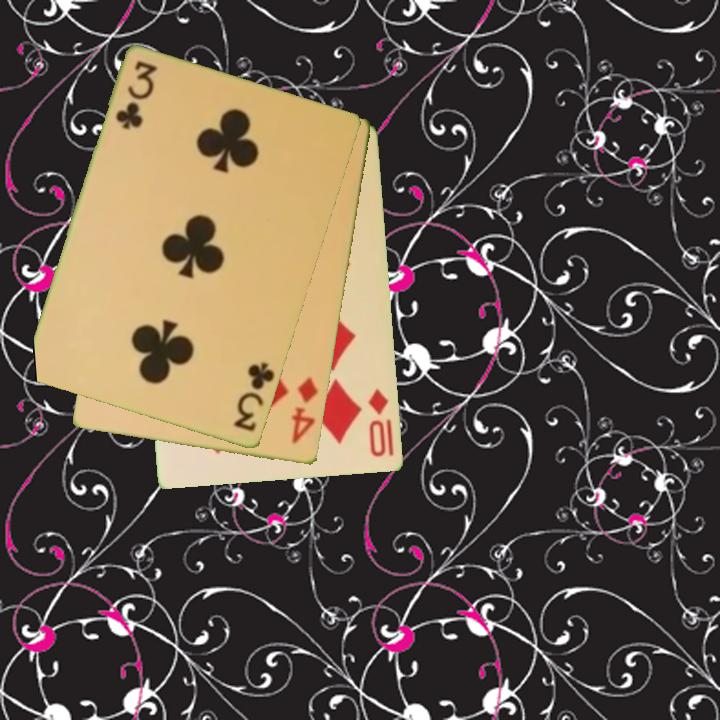10d: (364, 386, 392, 460)
3c: (230, 359, 278, 435), (112, 57, 159, 134)
4d: (288, 374, 321, 448)
